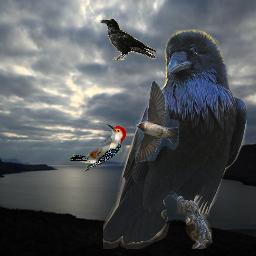Crow: (103, 29, 247, 249), (100, 19, 156, 60)
Swallow: (135, 80, 179, 163)
Woodpecker: (67, 124, 126, 172)
